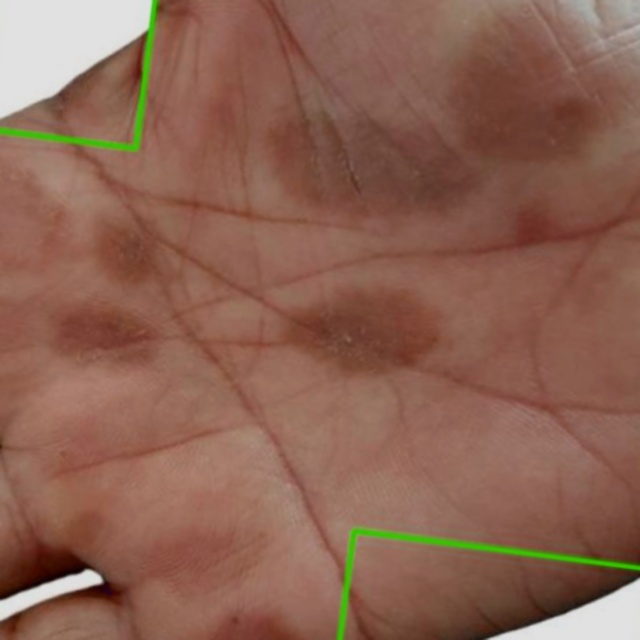Contact Dermatitis: (0, 0, 154, 148)
